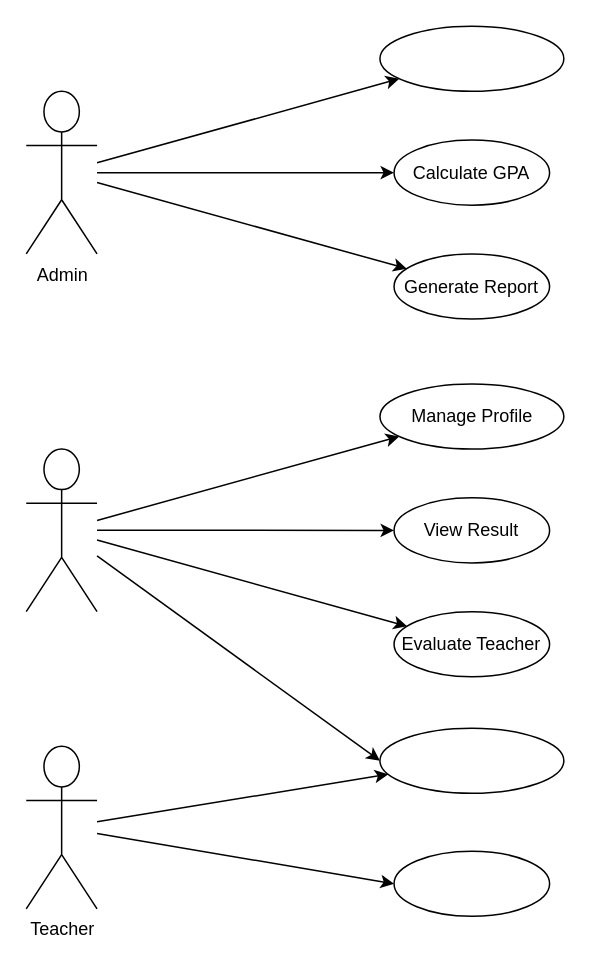
Image size: 591x966. Some labels were removed from this diagram. Here are the shapes that lost their labels. From the top down, the box of each, then its label:
(378, 25, 564, 91): Register Student
(25, 447, 97, 612): Student
(378, 727, 564, 793): Login
(393, 850, 550, 916): Submit Marks
